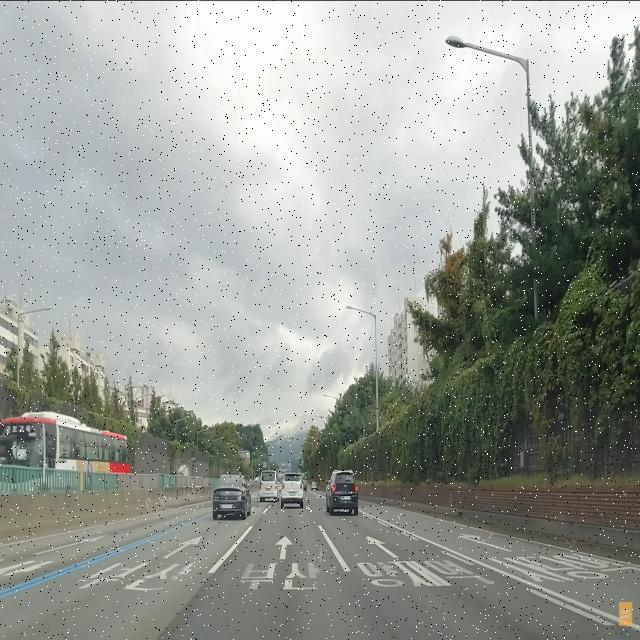forward: (217, 534, 344, 559)
